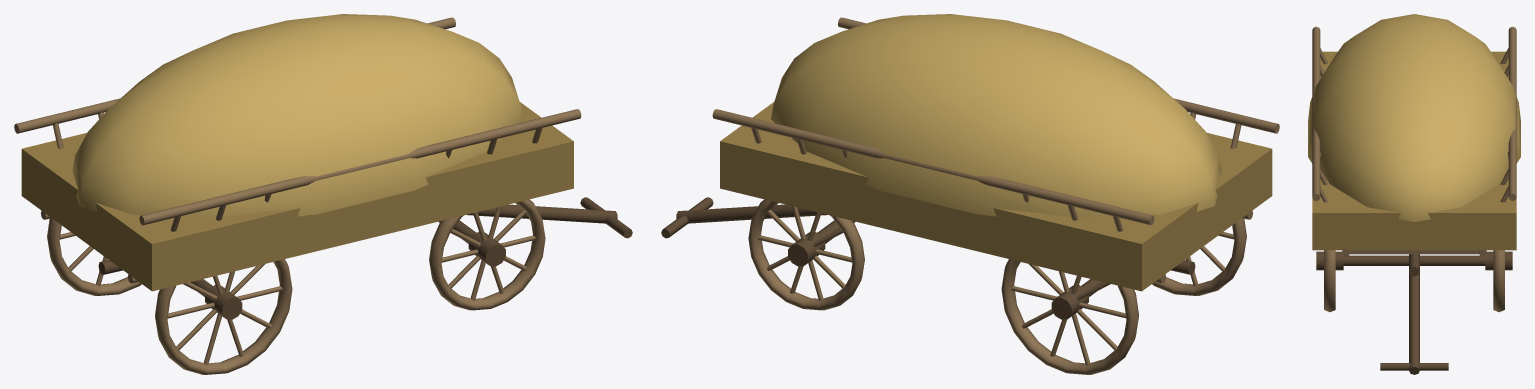
The model's file is viz.glb.
3 renders of one model, left to right at view 1: azimuth 30°, elevation 25°; view 2: azimuth 150°, elevation 25°; view 3: azimuth 270°, elevation 25°, orthographic. The views are drawn at different scales.
Visible parts, largest first — view 1: hay, hay_skirt, rim (×3), rail (×2), hub (×2), shaft, shaft_bar; view 2: hay, hay_skirt, rim (×3), rail (×2), hub (×2), shaft, shaft_bar; view 3: hay, hay_skirt, rail (×2), rim (×2), axle, shaft, hub (×2), bed, shaft_bar, reach.
Part boxes in pixels (x1=…): hay: x1=72, y1=14, x2=522, y2=217; hay_skirt: x1=21, y1=102, x2=573, y2=291; rim (×3): x1=47, y1=199, x2=545, y2=374; rail (×2): x1=14, y1=17, x2=581, y2=225; hub (×2): x1=205, y1=231, x2=505, y2=319; shaft: x1=466, y1=204, x2=617, y2=223; shaft_bar: x1=580, y1=197, x2=632, y2=238; hay: x1=771, y1=14, x2=1221, y2=217; hay_skirt: x1=720, y1=102, x2=1272, y2=291; rim (×3): x1=748, y1=199, x2=1246, y2=374; rail (×2): x1=712, y1=17, x2=1279, y2=225; hub (×2): x1=788, y1=232, x2=1088, y2=319; shaft: x1=676, y1=204, x2=827, y2=223; shaft_bar: x1=661, y1=197, x2=713, y2=238; hay: x1=1308, y1=14, x2=1520, y2=221; hay_skirt: x1=1312, y1=51, x2=1516, y2=250; rail (×2): x1=1312, y1=26, x2=1516, y2=200; rim (×2): x1=1324, y1=250, x2=1504, y2=312; axle: x1=1343, y1=255, x2=1485, y2=265; shaft: x1=1409, y1=272, x2=1419, y2=374; hub (×2): x1=1316, y1=251, x2=1512, y2=270; bed: x1=1350, y1=250, x2=1478, y2=254; shaft_bar: x1=1380, y1=363, x2=1448, y2=370; reach: x1=1409, y1=254, x2=1419, y2=276.
Size of the model in its own units: 3.56 by 1.7 by 1.56.
